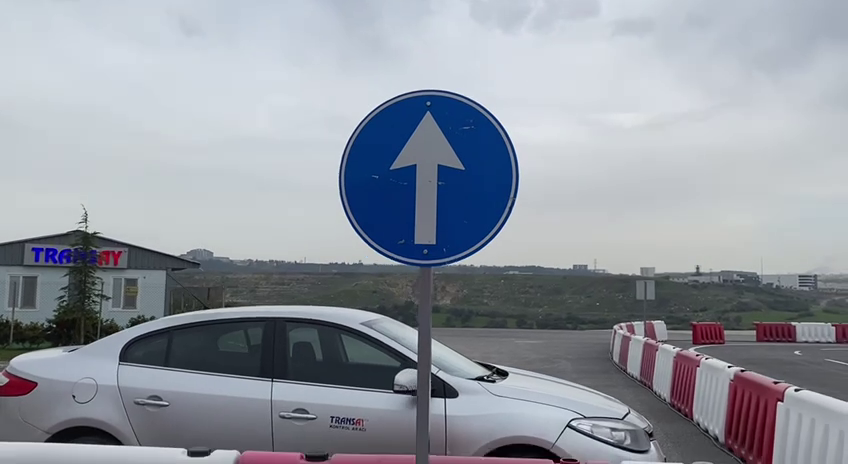forward: (332, 83, 522, 270)
